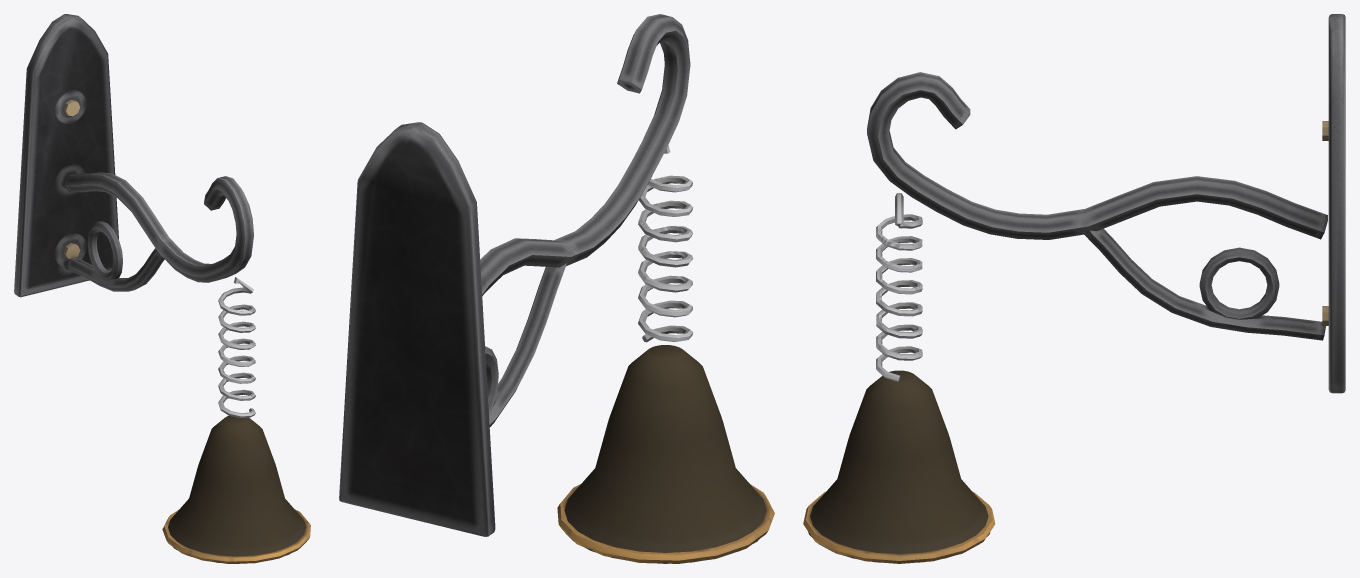
The model's file is DoorBellBracket.fbx.
The picture shows the model from 3 angles, left to right: view 1: azimuth 30°, elevation 25°; view 2: azimuth 150°, elevation 25°; view 3: azimuth 270°, elevation 25°; orthographic projection. The views are drawn at different scales.
Visible parts, largest first — view 1: DoorBellBracket; view 2: DoorBellBracket; view 3: DoorBellBracket.
Part boxes in pixels (x1,y1,x2,y2): DoorBellBracket: (14,14,310,563); DoorBellBracket: (339,14,774,563); DoorBellBracket: (803,14,1345,563).
Size of the model in its own units: 45.01 by 132 by 128.
